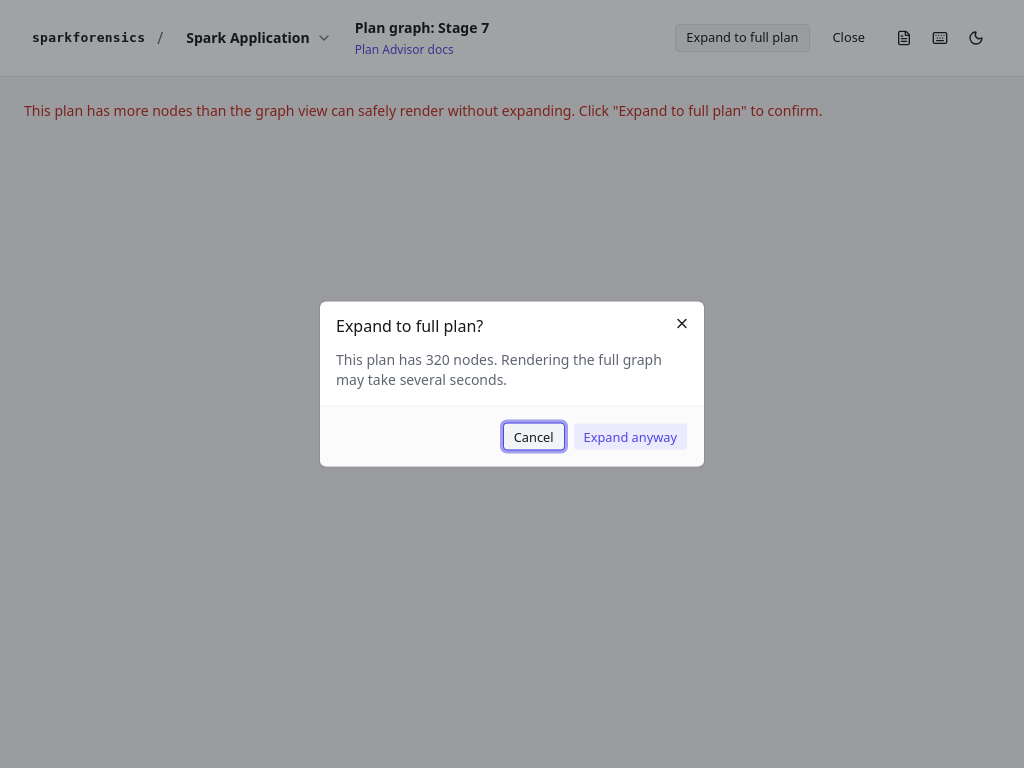
Scenario: dismissing the guardrail dialog on a segment-lookup-failure fallback keeps the render blocked (no unguarded oversized graph)
This screenshot has width=1024, height=768.
Expected: the text "several seconds" is shown, top-left (336, 350), bottom-right (662, 388)
Click the button "Cancel": x=534, y=436 top-left (503, 422), bottom-right (564, 450)
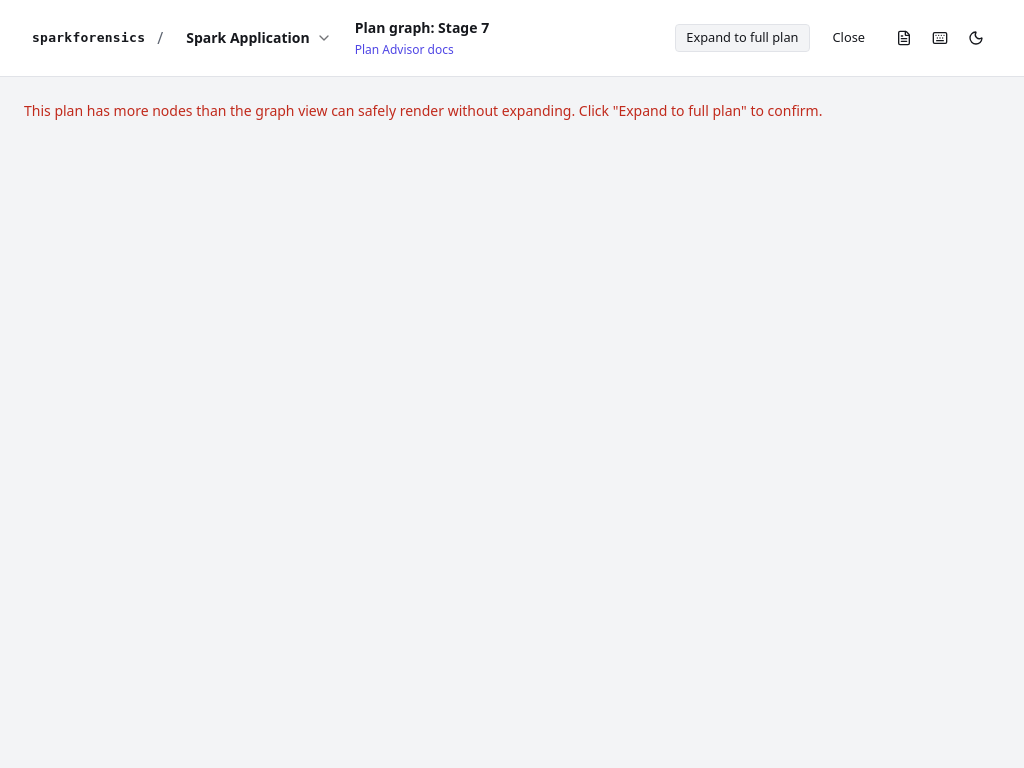
Expected: the text "more nodes than the graph view can safely render" is shown, top-left (24, 101), bottom-right (822, 120)
Now the text "several seconds" is gone
